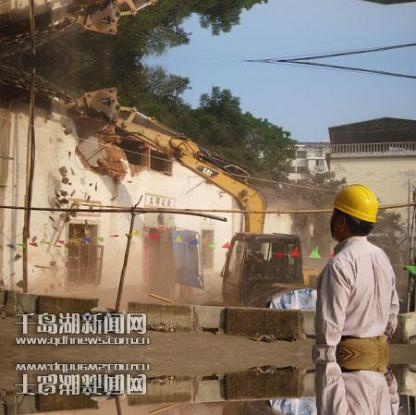Safety Helmet: (321, 180, 386, 249)
